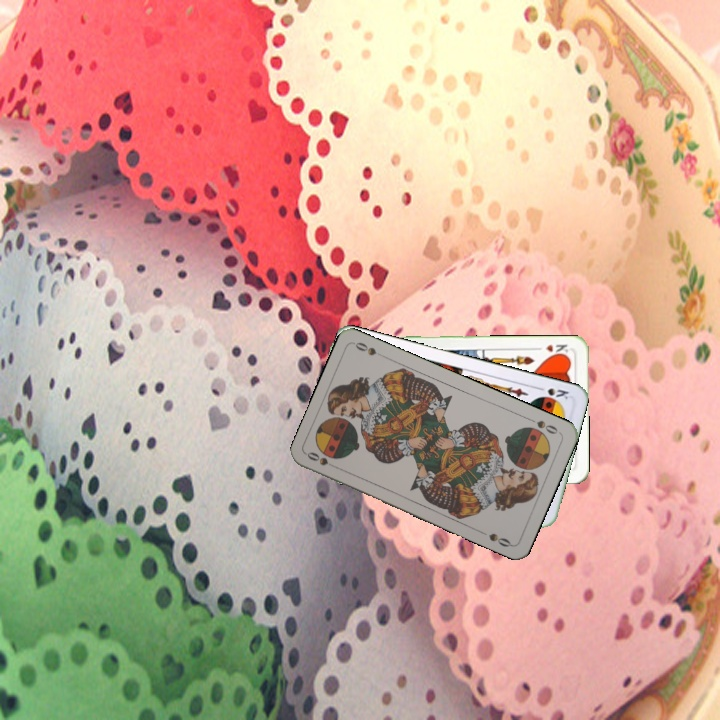HK: (532, 340, 571, 358)
SK: (533, 383, 571, 402)
SO: (303, 448, 342, 472), (524, 414, 563, 437)
